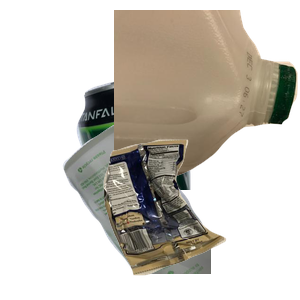glass: (60, 120, 300, 300)
metal: (74, 74, 257, 254)
plastic: (114, 10, 300, 179)
trash: (101, 137, 300, 300)
